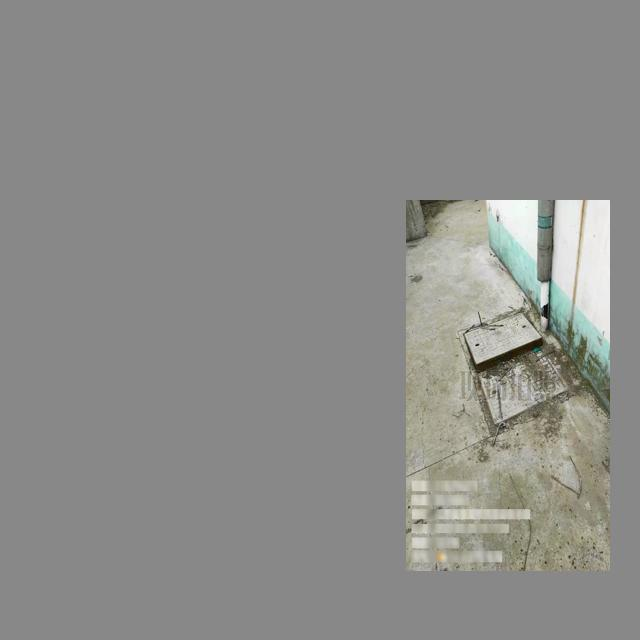uncovered: (460, 323, 563, 402)
